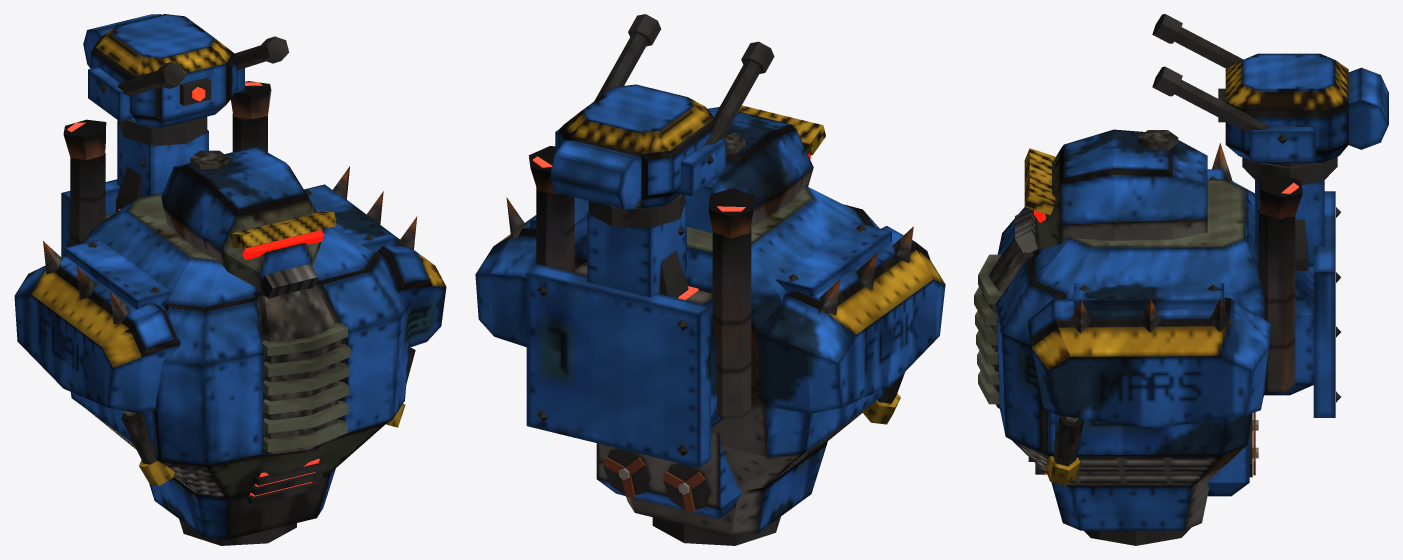
Rendered from FlakTorsoY.glb.
The picture shows the model from 3 angles, left to right: view 1: azimuth 30°, elevation 25°; view 2: azimuth 150°, elevation 25°; view 3: azimuth 270°, elevation 25°; orthographic projection. The views are drawn at different scales.
Visible parts, largest first — view 1: FlakTorsoY_Body, FlakTorsoY_Head, FlakTorsoY_Turret; view 2: FlakTorsoY_Body, FlakTorsoY_Turret, FlakTorsoY_Head; view 3: FlakTorsoY_Body, FlakTorsoY_Turret, FlakTorsoY_Head.
Part boxes in pixels (x1,y1,x2,y2): FlakTorsoY_Body: (14, 81, 446, 545); FlakTorsoY_Head: (161, 147, 336, 298); FlakTorsoY_Turret: (83, 14, 289, 127); FlakTorsoY_Body: (475, 146, 945, 545); FlakTorsoY_Turret: (550, 14, 774, 209); FlakTorsoY_Head: (685, 105, 825, 233); FlakTorsoY_Body: (974, 143, 1340, 545); FlakTorsoY_Turret: (1152, 14, 1388, 166); FlakTorsoY_Head: (1015, 129, 1207, 253).
Size of the model in its own units: 10.9 by 14.41 by 11.32.
Materials: 19 (16 with a texture image).
